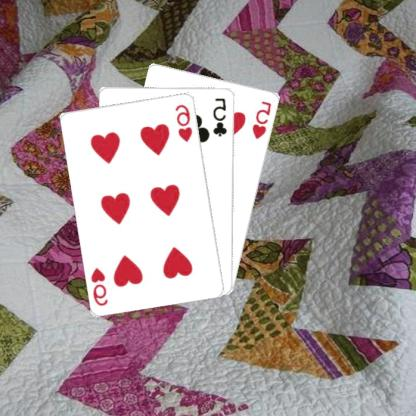5C: (213, 95, 230, 137)
5H: (252, 98, 274, 140)
6H: (175, 101, 196, 143), (90, 265, 111, 307)
